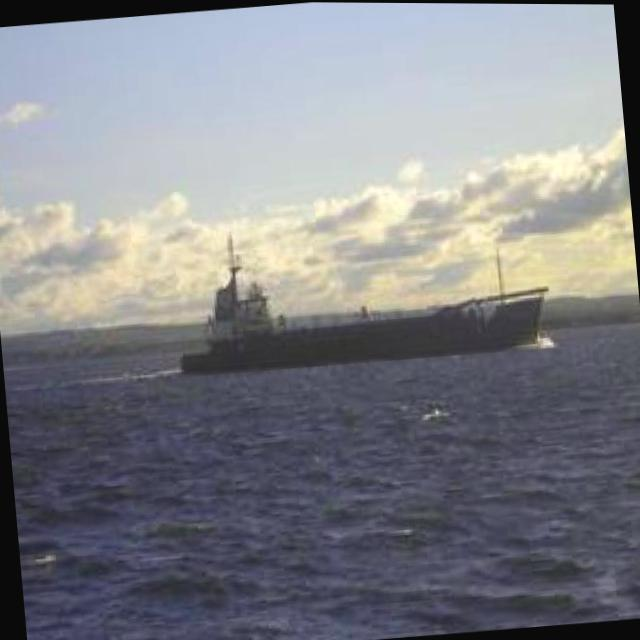ship2: (179, 230, 547, 376)
